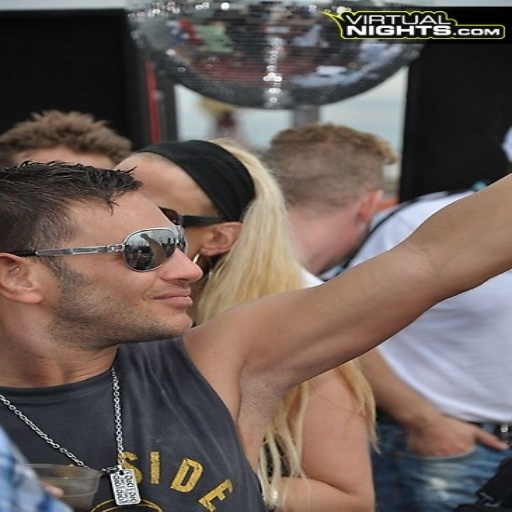hand: (366, 388, 492, 481), (36, 476, 63, 498)
